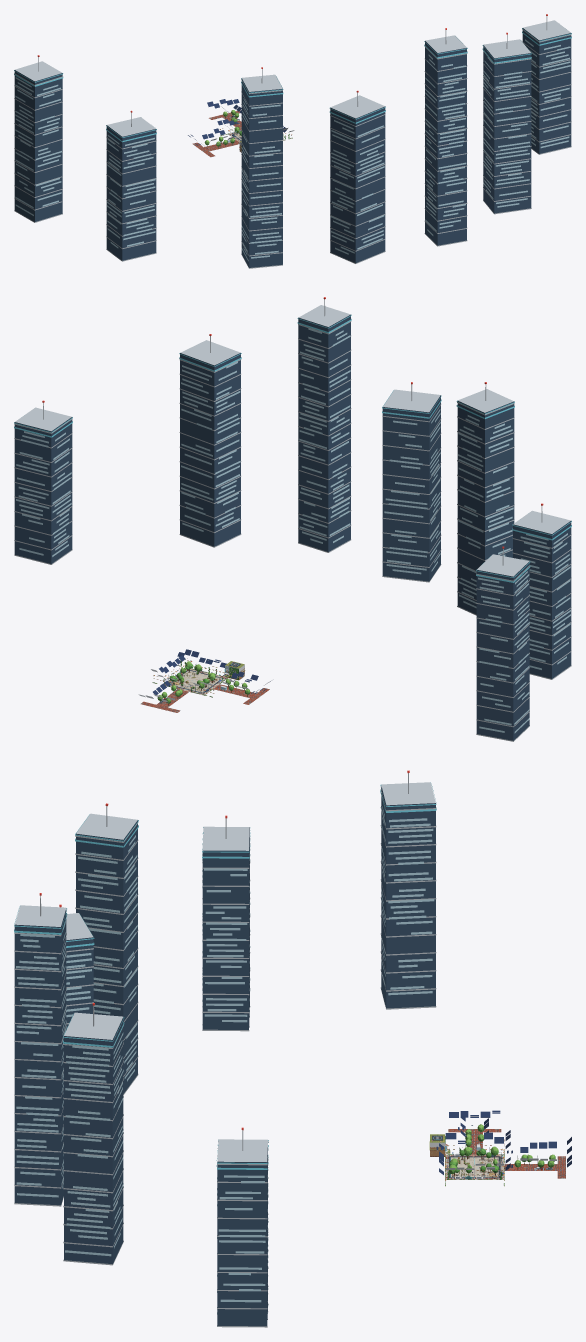
File: Street_Elements.fbx
The picture shows the model from 3 angles, top to bottom: view 1: azimuth 30°, elevation 25°; view 2: azimuth 150°, elevation 25°; view 3: azimuth 270°, elevation 25°; orthographic projection. The views are drawn at different scales.
Parts seen in each view (by area): view 1: Skyline, Solar, Paving; view 2: Skyline, Paving, Solar; view 3: Skyline, Paving, Solar.
Boxes of the visible parts, x1=… form: Skyline: x1=14, y1=14, x2=571, y2=268; Solar: x1=188, y1=99, x2=294, y2=148; Paving: x1=192, y1=110, x2=241, y2=157; Skyline: x1=14, y1=297, x2=571, y2=741; Paving: x1=141, y1=668, x2=269, y2=712; Solar: x1=138, y1=649, x2=271, y2=702; Skyline: x1=14, y1=770, x2=436, y2=1327; Paving: x1=445, y1=1129, x2=565, y2=1179; Solar: x1=436, y1=1110, x2=571, y2=1174.
Bounding box in the file's own units: 488 × 201 × 337.
